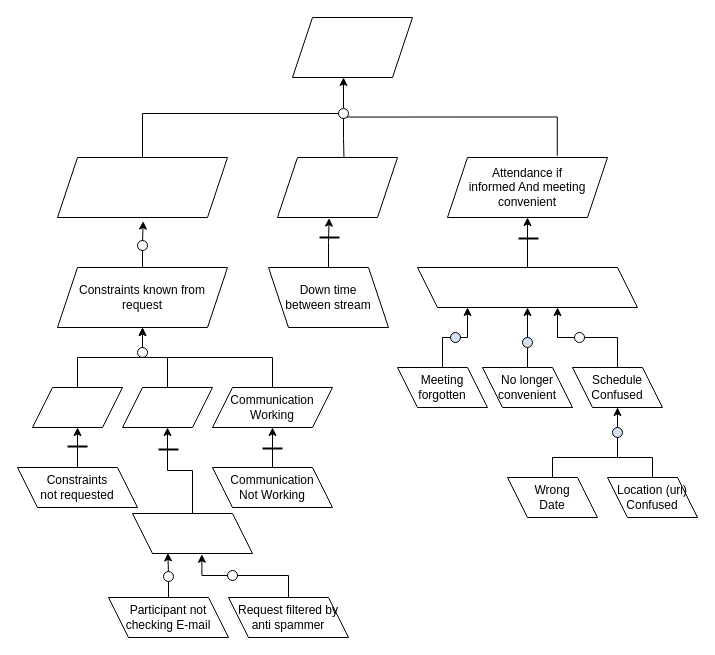
Some shapes in this 715 by 655 pixel diagram are drawn without their labels. The centre of each missing label's shape, as x and y in pixels:
"Appropriate band width" belongs at (337,187).
"Constraints not transmitted" belongs at (192,533).
"Constraints requested" belongs at (77,407).
"Constraints transmitted" belongs at (167,407).
"Convenient meeting scheduled from request" belongs at (142,187).
"Informed And Convenient And Not Attend" belongs at (527,287).
"Maximum Attendance" belongs at (352,47).
